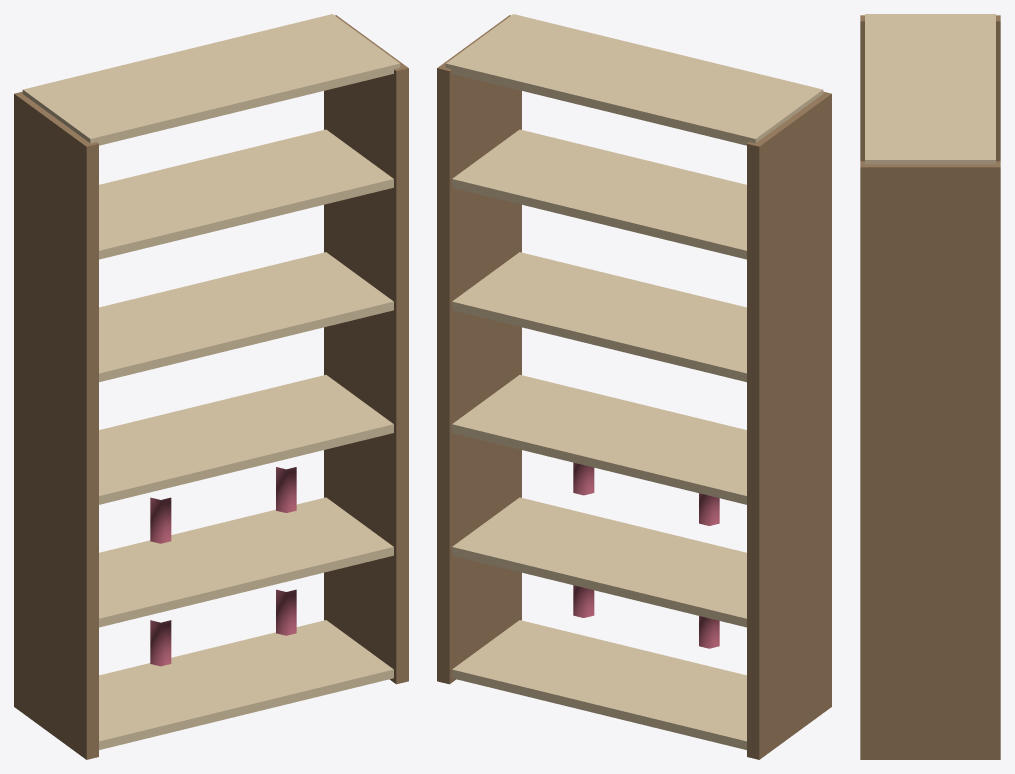
The model's file is wine_rack.glb.
3 views of the same model, side by side, from view 1: azimuth 30°, elevation 25°; view 2: azimuth 150°, elevation 25°; view 3: azimuth 270°, elevation 25° (orthographic). The views are drawn at different scales.
Parts seen in each view (by area): view 1: shelves, sides, bottles; view 2: shelves, sides, bottles; view 3: sides, shelves.
Part boxes in pixels (x1=…): shelves: x1=22, y1=14, x2=400, y2=749; sides: x1=14, y1=15, x2=408, y2=759; bottles: x1=150, y1=467, x2=296, y2=666; shelves: x1=445, y1=14, x2=823, y2=749; sides: x1=437, y1=15, x2=831, y2=759; bottles: x1=573, y1=462, x2=719, y2=648; sides: x1=860, y1=15, x2=1000, y2=759; shelves: x1=865, y1=14, x2=995, y2=164.
Size of the model in its own units: 0.77 by 1.41 by 0.3.
